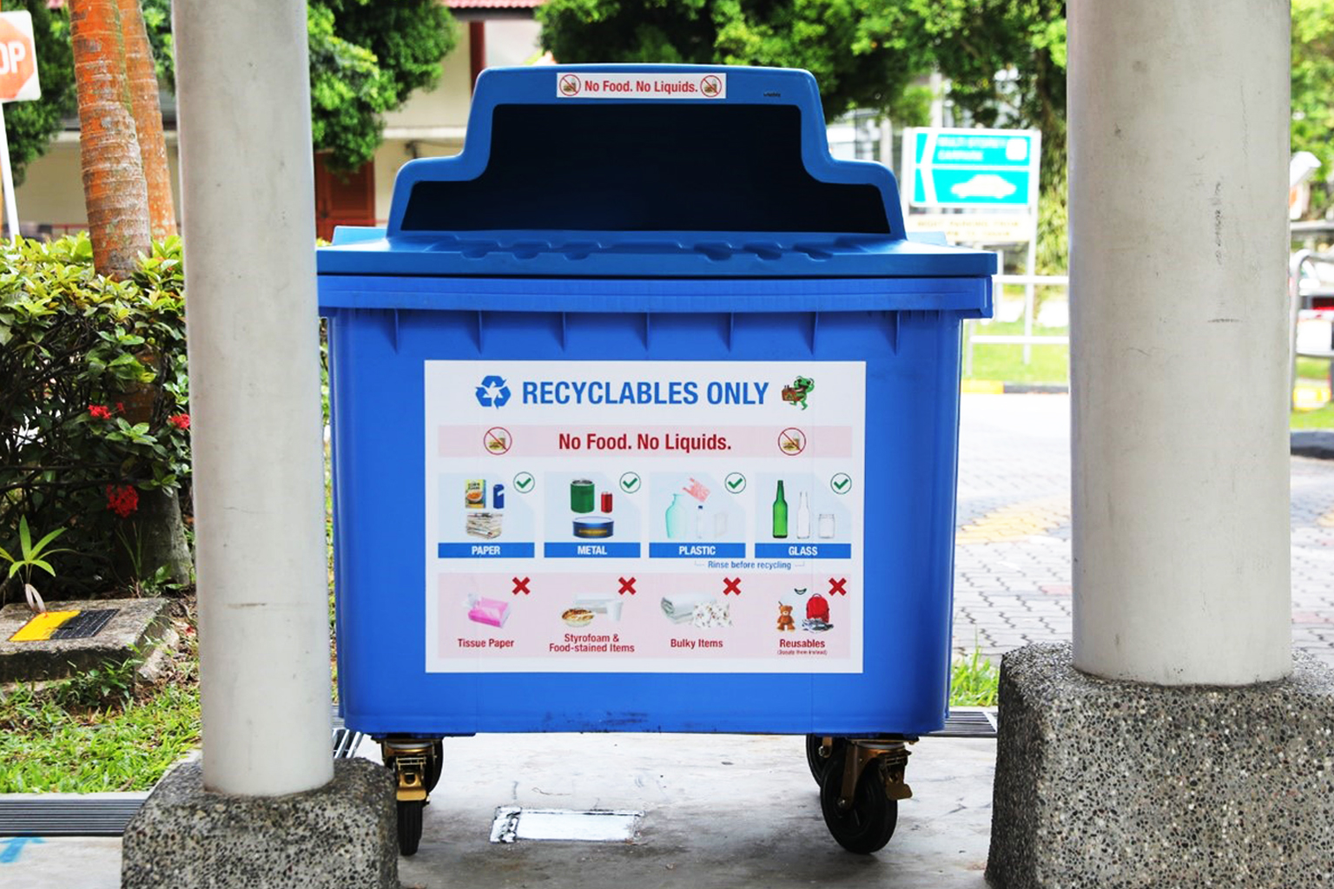bin_empty: (318, 66, 994, 850)
